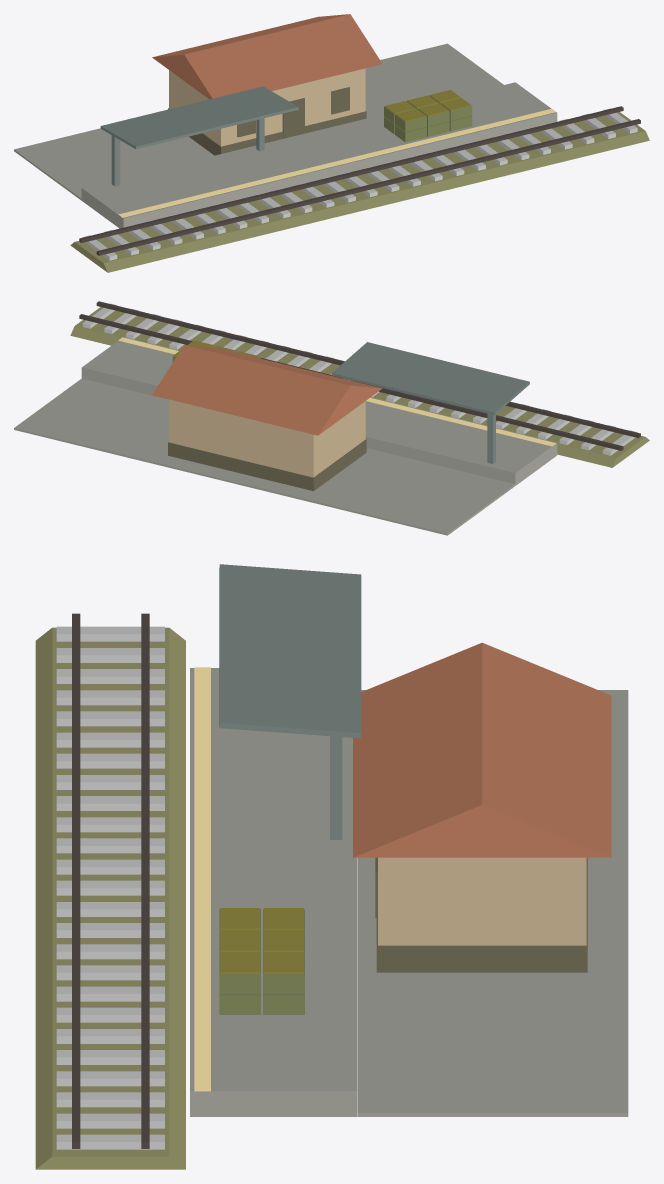
The model's file is SM_EstacionH1_v0_Apeadero_LOD1.fbx.
The picture shows the model from 3 angles, top to bottom: view 1: azimuth 30°, elevation 25°; view 2: azimuth 150°, elevation 25°; view 3: azimuth 270°, elevation 25°; orthographic projection. The views are drawn at different scales.
Parts seen in each view (by area): view 1: SM_estacion_h1_v0_LOD1; view 2: SM_estacion_h1_v0_LOD1; view 3: SM_estacion_h1_v0_LOD1.
Boxes of the visible parts, box(x1,y1,x2,y2) form: SM_estacion_h1_v0_LOD1: box(14, 14, 649, 272); SM_estacion_h1_v0_LOD1: box(14, 301, 649, 535); SM_estacion_h1_v0_LOD1: box(35, 564, 628, 1169).
Bounding box in the file's own units: 30 × 4.8 × 14.2.
